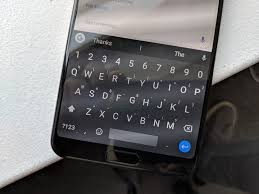keyboard: (65, 46, 207, 131)
